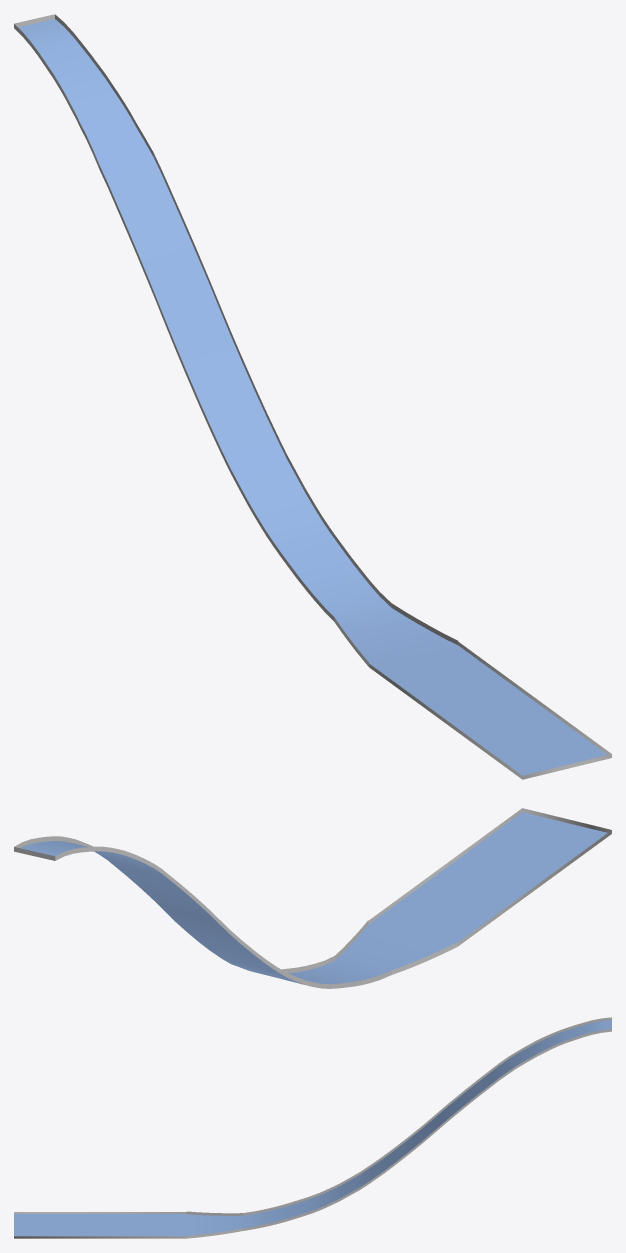
File: LandingRescaled01.fbx
The picture shows the model from 3 angles, top to bottom: view 1: azimuth 30°, elevation 25°; view 2: azimuth 150°, elevation 25°; view 3: azimuth 270°, elevation 25°; orthographic projection. The views are drawn at different scales.
Visible parts, largest first — view 1: polySurface36; view 2: polySurface36; view 3: polySurface36.
Boxes of the visible parts, x1,y1,x2,y2 form: polySurface36: (14,14,611,779); polySurface36: (14,808,611,988); polySurface36: (14,1017,611,1238).
Size of the model in its own units: 39259 by 151645 by 404632.
